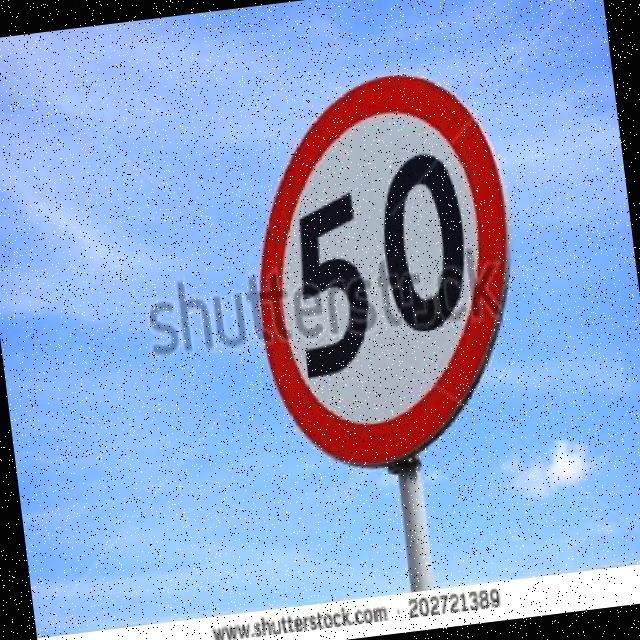Ograniczenie predkosci do 50: (237, 64, 530, 460)
